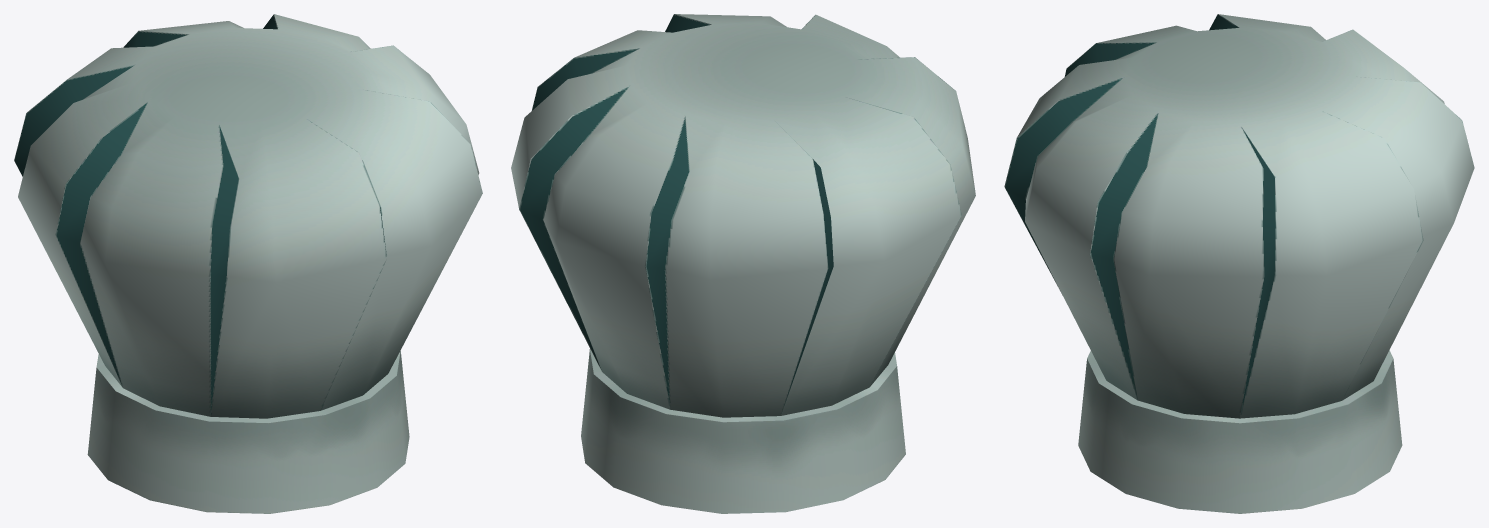
Rendered from m_ChefHat01.obj.
3 renders of one model, left to right at view 1: azimuth 30°, elevation 25°; view 2: azimuth 150°, elevation 25°; view 3: azimuth 270°, elevation 25°, orthographic.
Visible parts, largest first — view 1: m_ChefHat01_mat_ChefHat01; view 2: m_ChefHat01_mat_ChefHat01; view 3: m_ChefHat01_mat_ChefHat01.
Part boxes in pixels (x1,y1,x2,y2): m_ChefHat01_mat_ChefHat01: (14,14,482,513); m_ChefHat01_mat_ChefHat01: (511,14,975,513); m_ChefHat01_mat_ChefHat01: (1004,14,1474,513).
Bounding box in the file's own units: 0.5991 × 0.5182 × 0.5991.
Materials: 1 (1 with a texture image).
